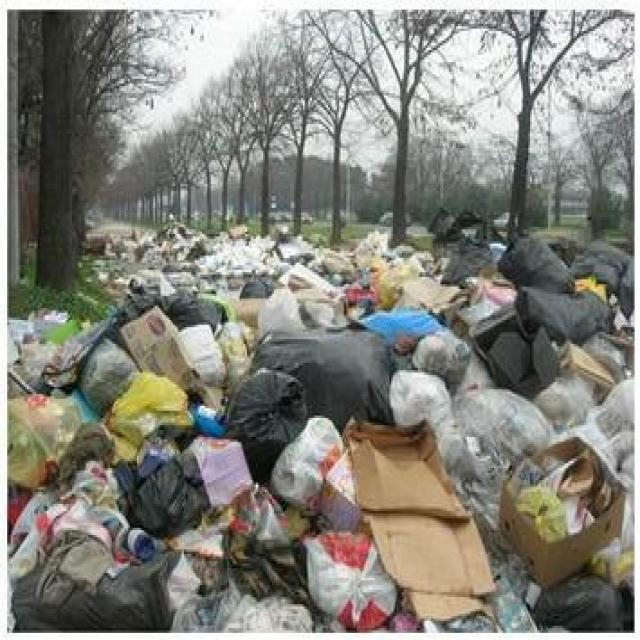Trashbag: (220, 362, 312, 468), (304, 322, 390, 432), (130, 454, 208, 536), (537, 574, 625, 638), (516, 286, 602, 345), (508, 227, 570, 297), (577, 230, 634, 302), (440, 229, 492, 288)
